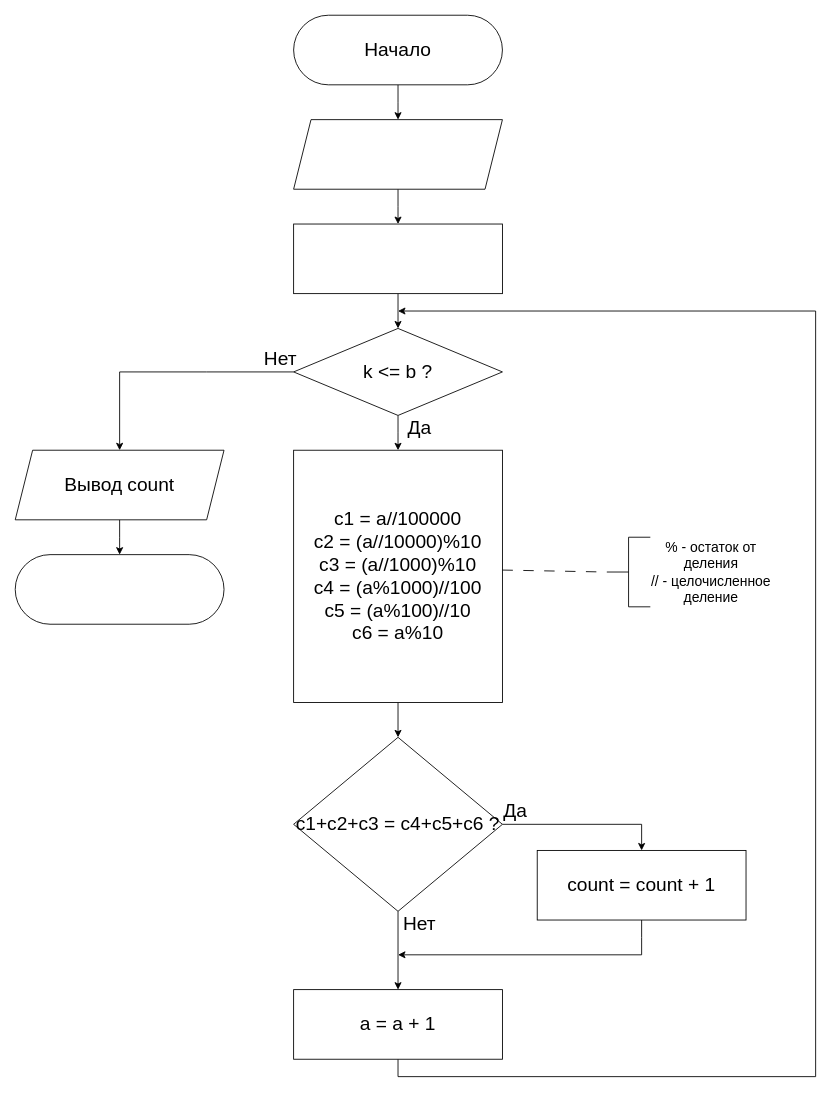
Some shapes in this 838 by 1099 pixel diagram are drawn without their labels. Each missing label, with the centre of its shape:
count = 0: the point at 397,258
Ввод a, b: the point at 397,154
Конец: the point at 119,589
